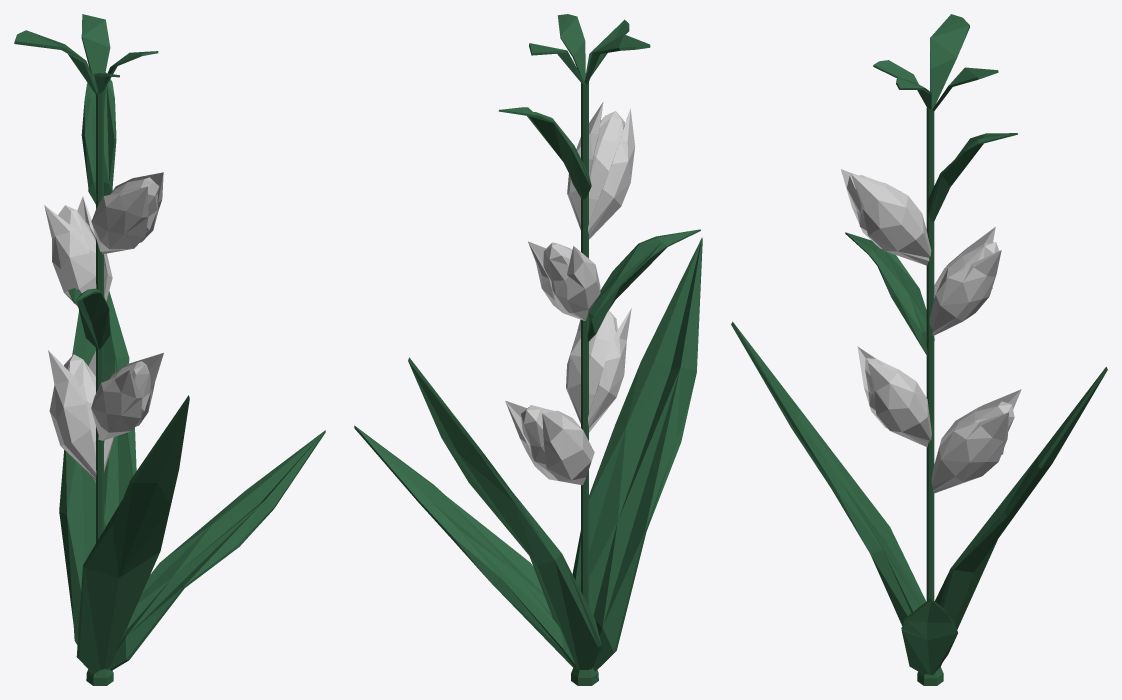
Rendered from mod_vg_cornM.fbx.
3 views of the same model, side by side, from view 1: azimuth 30°, elevation 25°; view 2: azimuth 150°, elevation 25°; view 3: azimuth 270°, elevation 25° (orthographic). The views are drawn at different scales.
Visible parts, largest first — view 1: TigeMais.001; view 2: TigeMais.001; view 3: TigeMais.001.
Part boxes in pixels (<box>): TigeMais.001: <box>14,14,325,685</box>; TigeMais.001: <box>354,14,702,685</box>; TigeMais.001: <box>731,14,1107,685</box>.
Size of the model in its own units: 75.29 by 156 by 84.02.
